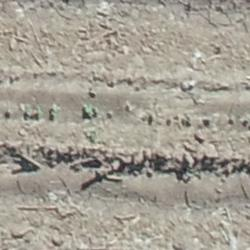cotton: (82, 105, 92, 116), (51, 108, 57, 118), (36, 109, 41, 115), (26, 110, 31, 116)
